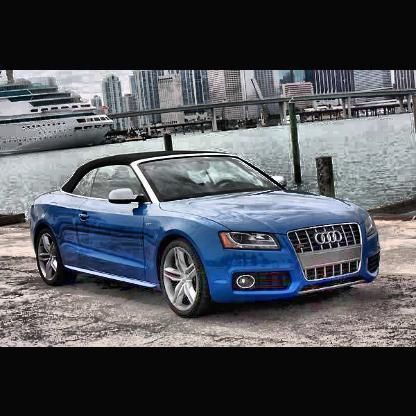Audi S5 Convertible 2012: (29, 151, 383, 320)
